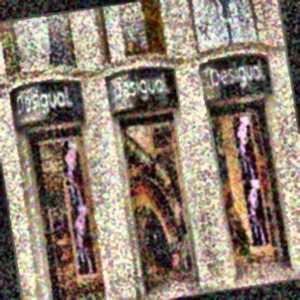desigual: (95, 26, 300, 76), (116, 33, 226, 99), (72, 39, 84, 118)
